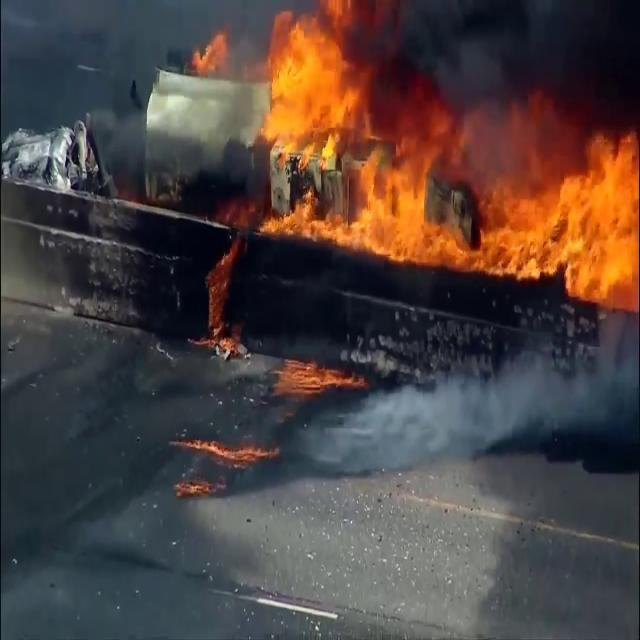Fire: (248, 6, 637, 298)
